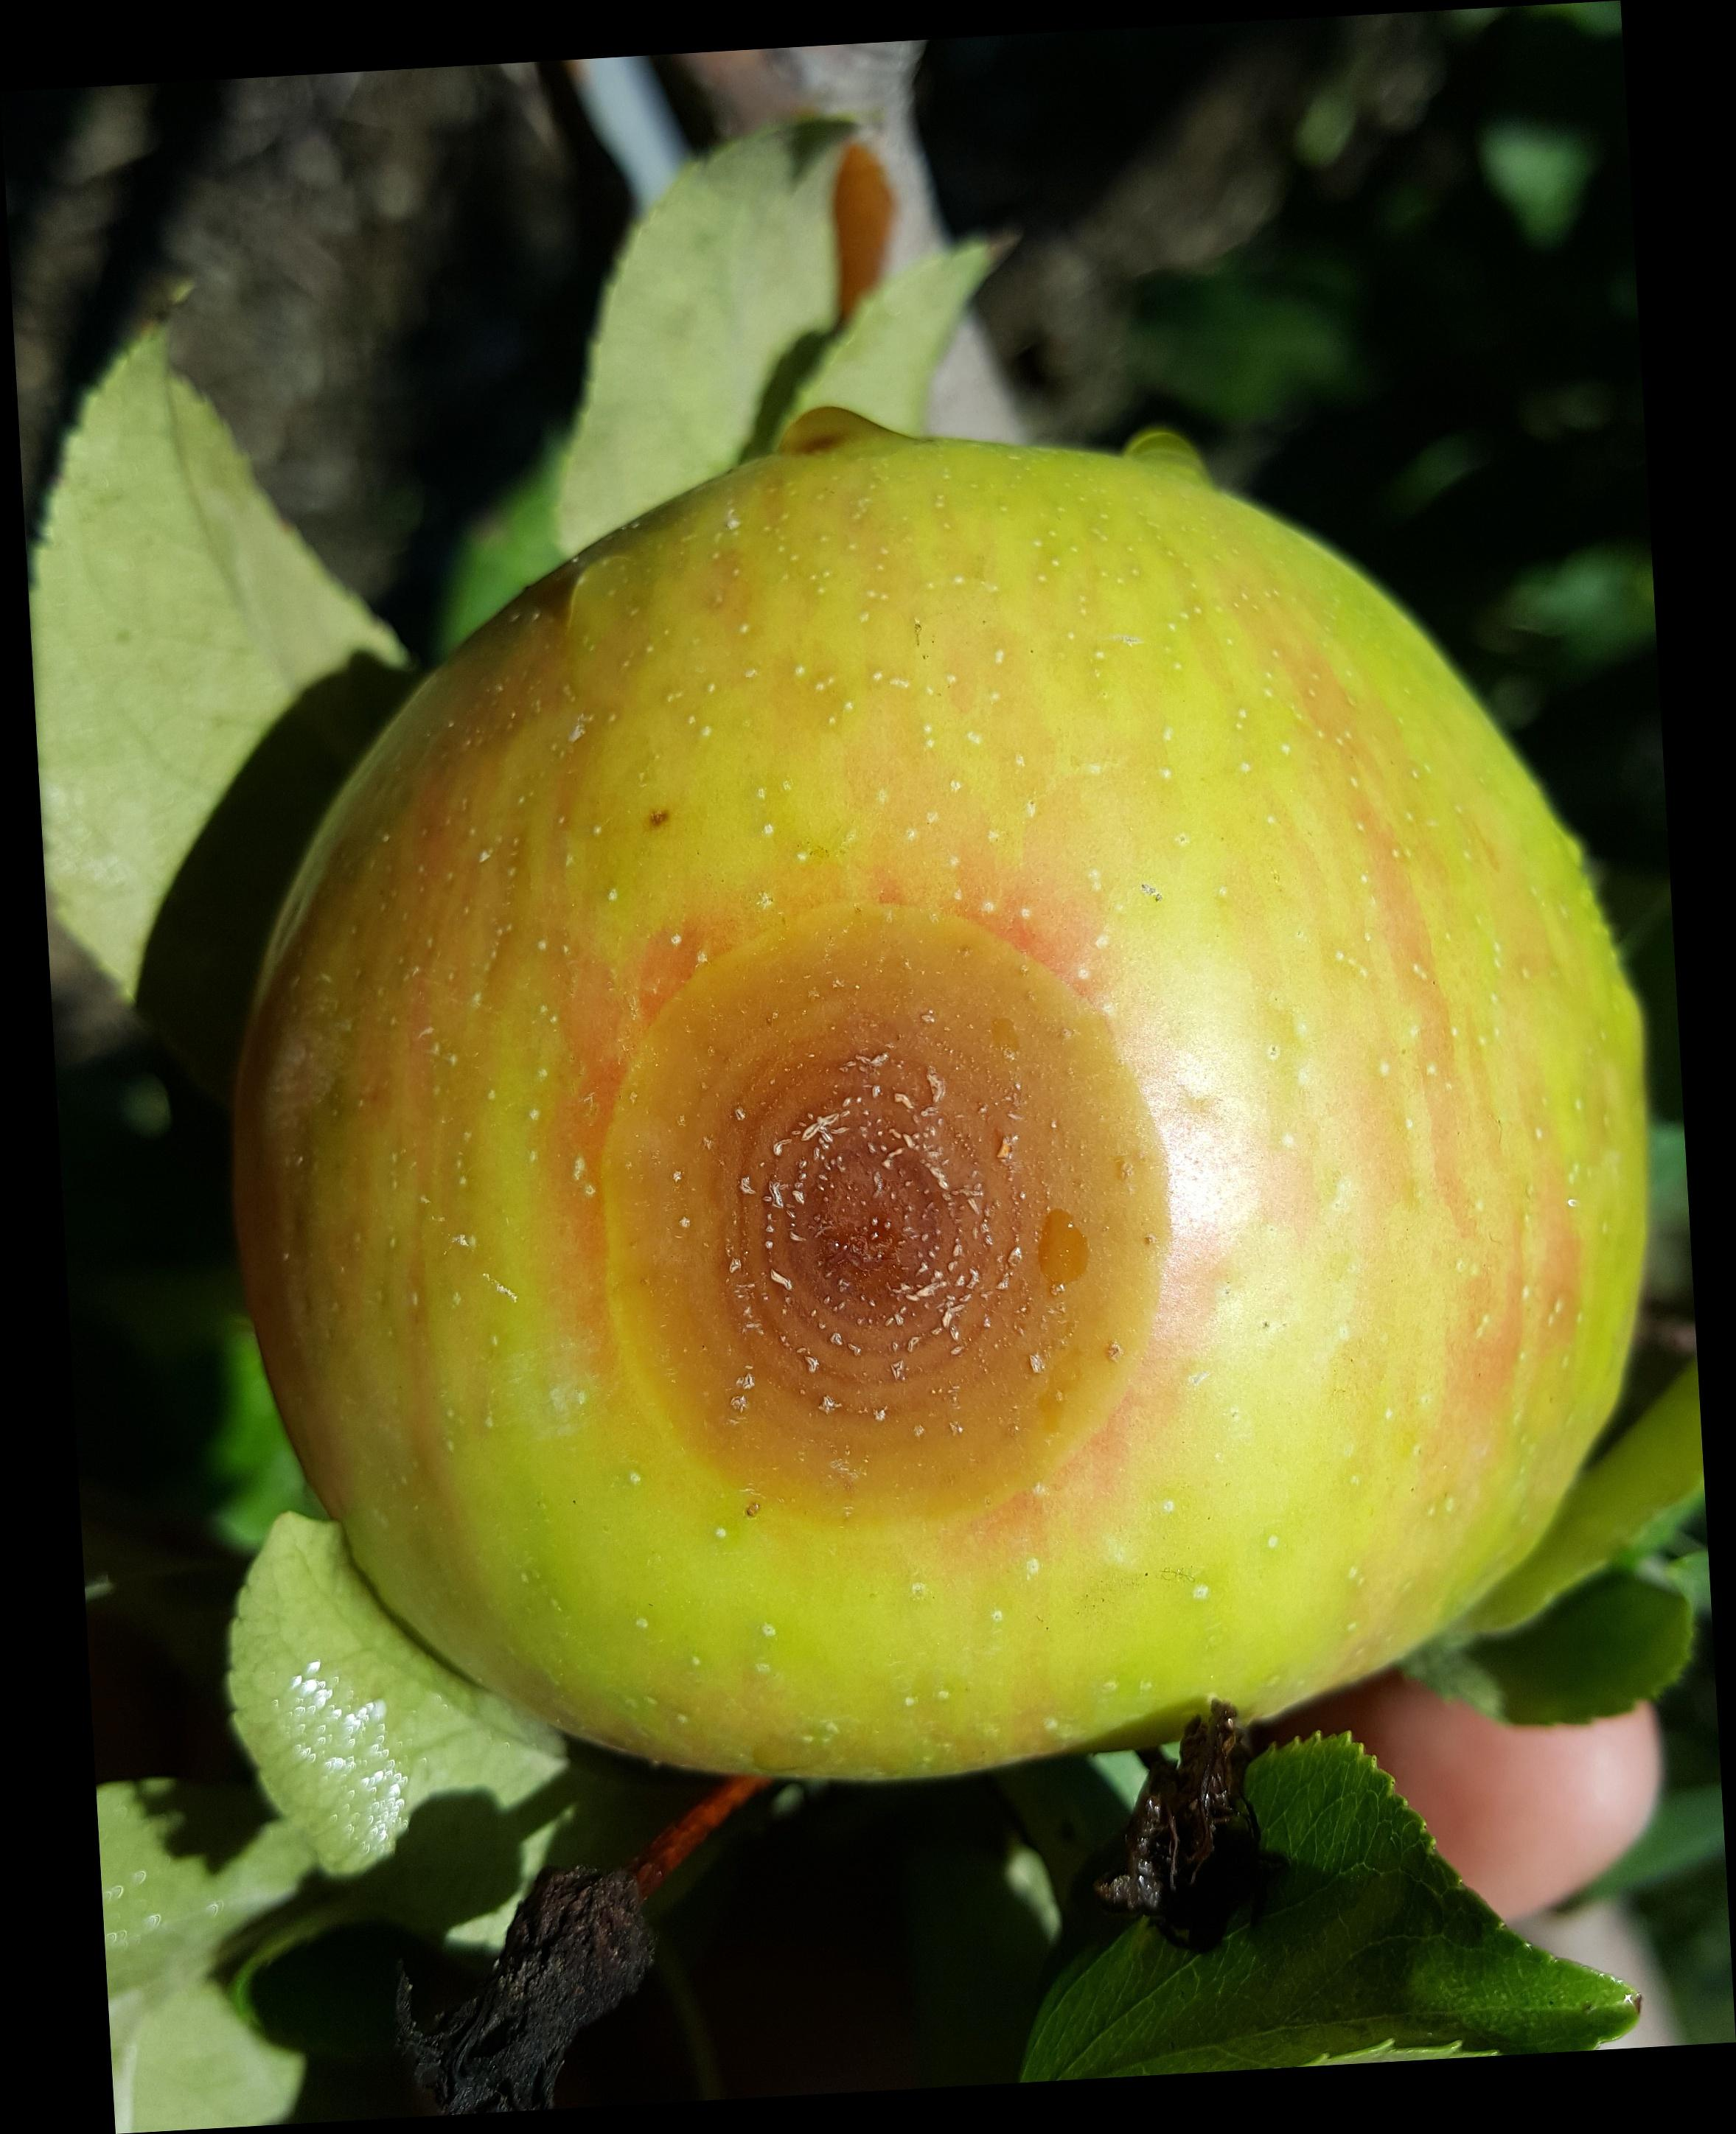rotten apple: (184, 443, 1670, 1796)
